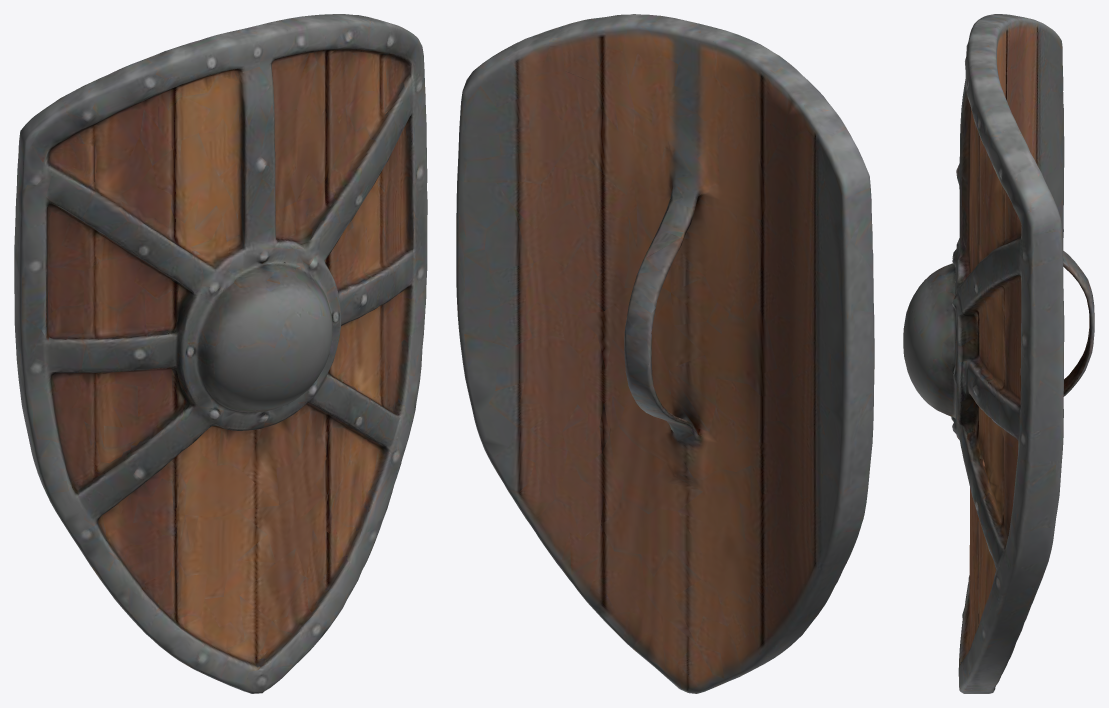
Rendered from PF_Shield8.glb.
The picture shows the model from 3 angles, left to right: view 1: azimuth 30°, elevation 25°; view 2: azimuth 150°, elevation 25°; view 3: azimuth 270°, elevation 25°; orthographic projection. The views are drawn at different scales.
Size of the model in its own units: 1.3 by 2.01 by 0.5429.
Materials: 1 (1 with a texture image).
